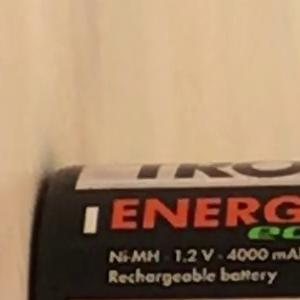NIMH: (101, 242, 167, 271)
